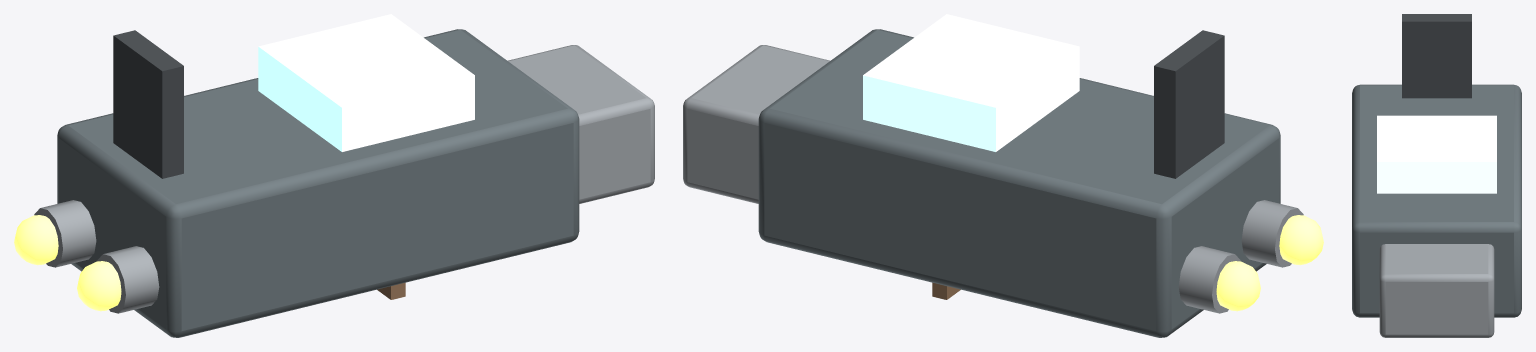
The model's file is escape_ship.glb.
3 renders of one model, left to right at view 1: azimuth 30°, elevation 25°; view 2: azimuth 150°, elevation 25°; view 3: azimuth 270°, elevation 25°, orthographic. The views are drawn at different scales.
Parts seen in each view (by area): view 1: Hull, Cabin, Nose, Fin, EngineL, EngineR, GlowR, GlowL; view 2: Hull, Cabin, Nose, Fin, EngineL, EngineR, GlowL, GlowR; view 3: Hull, Nose, Cabin, Fin.
Part boxes in pixels (bbox=[...]): Hull: bbox=[57, 29, 579, 337]; Cabin: bbox=[258, 14, 474, 151]; Nose: bbox=[507, 45, 654, 203]; Fin: bbox=[113, 30, 183, 178]; EngineL: bbox=[34, 200, 96, 267]; EngineR: bbox=[97, 246, 159, 313]; GlowR: bbox=[77, 261, 121, 311]; GlowL: bbox=[14, 215, 58, 265]; Hull: bbox=[758, 29, 1280, 337]; Cabin: bbox=[863, 14, 1079, 151]; Nose: bbox=[683, 45, 830, 203]; Fin: bbox=[1154, 30, 1224, 178]; EngineL: bbox=[1178, 246, 1240, 313]; EngineR: bbox=[1241, 200, 1303, 267]; GlowL: bbox=[1216, 261, 1260, 311]; GlowR: bbox=[1279, 215, 1323, 265]; Hull: bbox=[1352, 84, 1521, 317]; Nose: bbox=[1379, 244, 1494, 337]; Cabin: bbox=[1377, 115, 1496, 193]; Fin: bbox=[1402, 14, 1471, 98].
Bounding box in the file's own units: 4.7 × 2 × 1.7.
